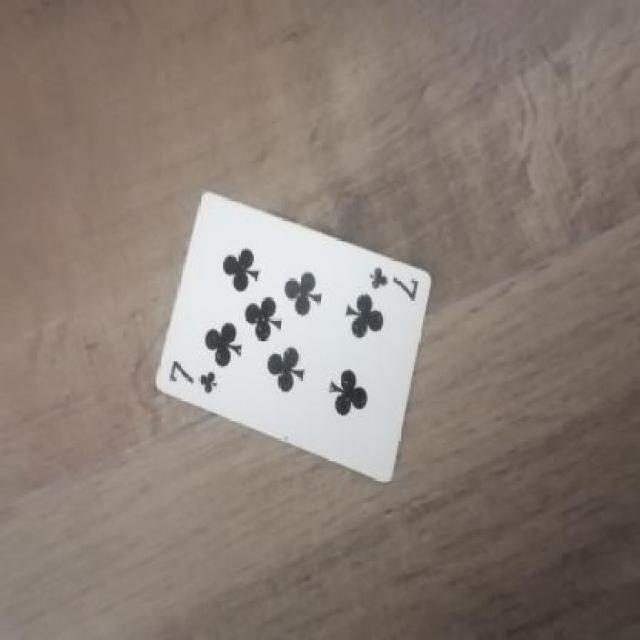7C: (363, 249, 435, 316), (168, 349, 220, 413)
